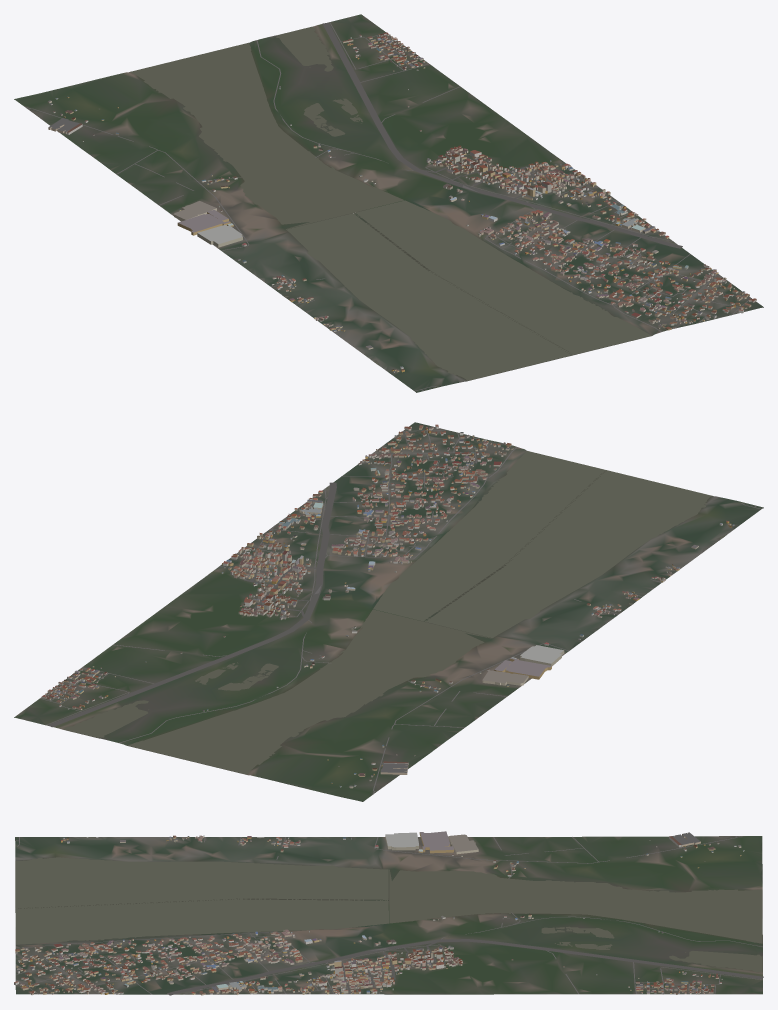
3 renders of one model, top to bottom at view 1: azimuth 30°, elevation 25°; view 2: azimuth 150°, elevation 25°; view 3: azimuth 270°, elevation 25°, orthographic. The views are drawn at different scales.
Visible parts, largest first — view 1: ground, water, buildings, roads; view 2: ground, water, buildings, roads; view 3: ground, water, buildings, roads.
Boxes of the visible parts, x1,y1,x2,y2 form: ground: (14, 14, 763, 392); water: (99, 26, 651, 380); buildings: (47, 32, 756, 372); roads: (25, 22, 751, 391); ground: (14, 422, 763, 801); water: (63, 451, 723, 774); buildings: (41, 424, 734, 788); roads: (40, 430, 761, 794); ground: (15, 836, 762, 994); water: (15, 837, 762, 972); buildings: (14, 831, 744, 995); roads: (15, 836, 763, 995).
Bounding box in the file's own units: 1442 × 37.79 × 2814.
